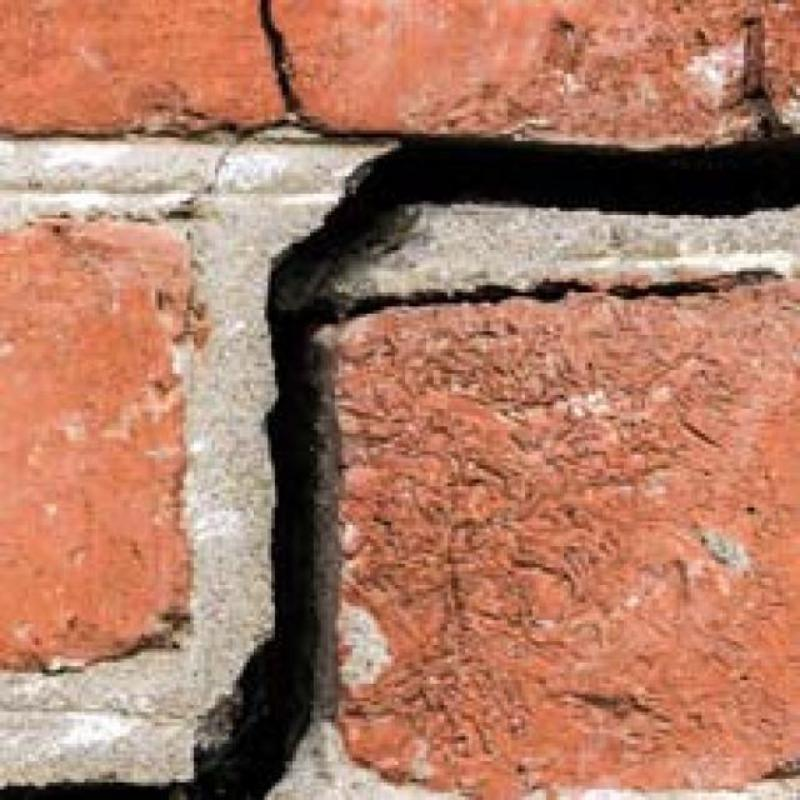pothole: (0, 138, 799, 800), (210, 1, 403, 138), (611, 270, 775, 298)
